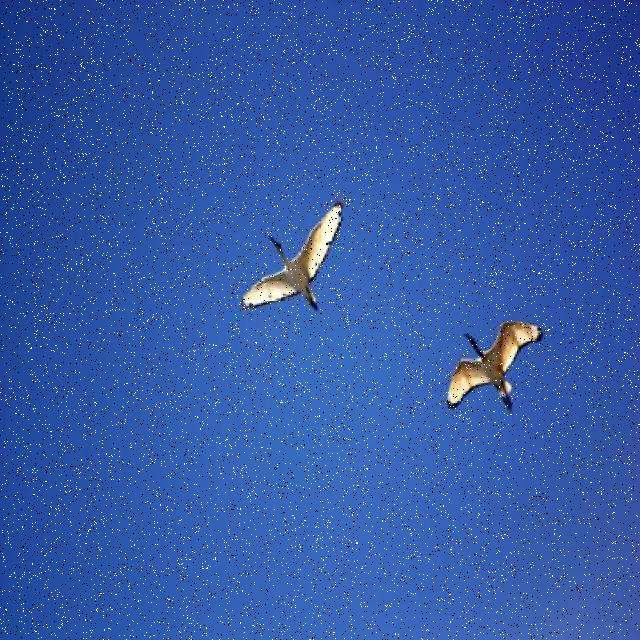bird: (241, 198, 345, 316), (448, 319, 544, 416)
